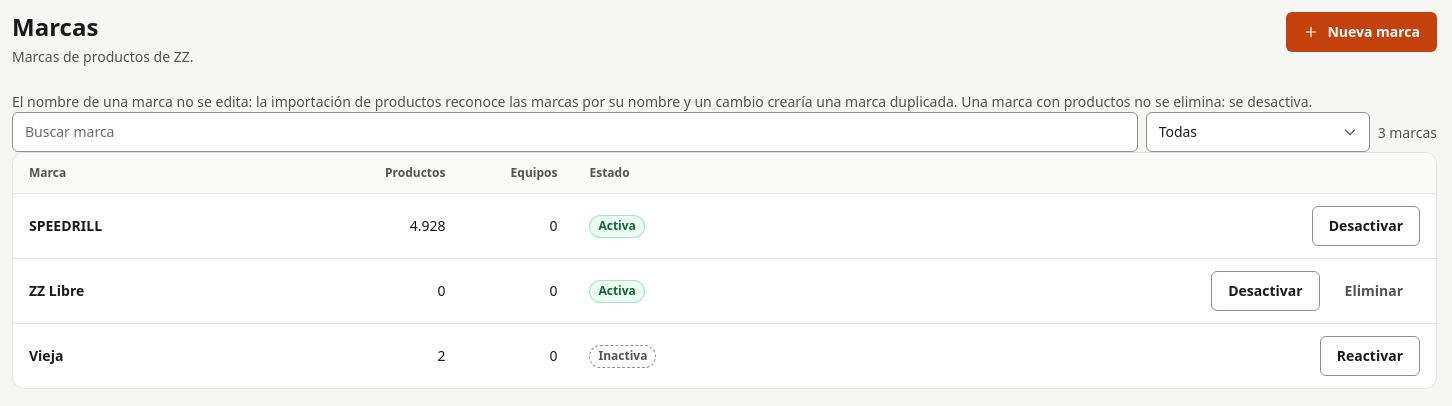
Test: Marcas › filtro por estado y búsqueda
The width and height of the screenshot is (1452, 406).
Select "Inactivas" in the dropdown named "Filtrar por estado" at [1258, 132], box x1=1146 y1=112 x2=1370 y2=152
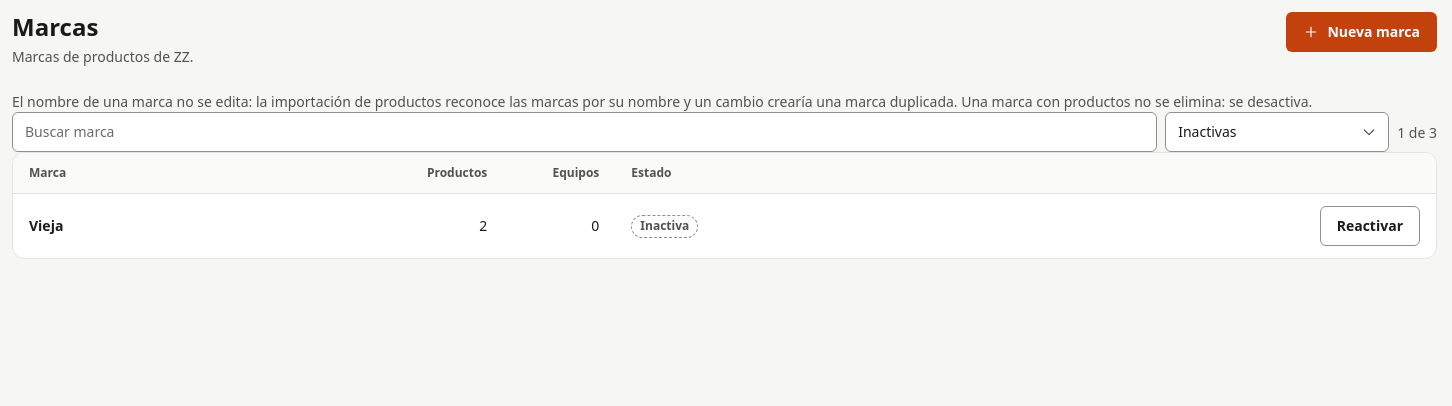
Expected: the text "Vieja" is shown, x1=29 y1=216 x2=63 y2=235
Expected: the text "SPEEDRILL" is gone
Select "Todas" in the dropdown named "Filtrar por estado" at [1277, 132], box x1=1165 y1=112 x2=1389 y2=152
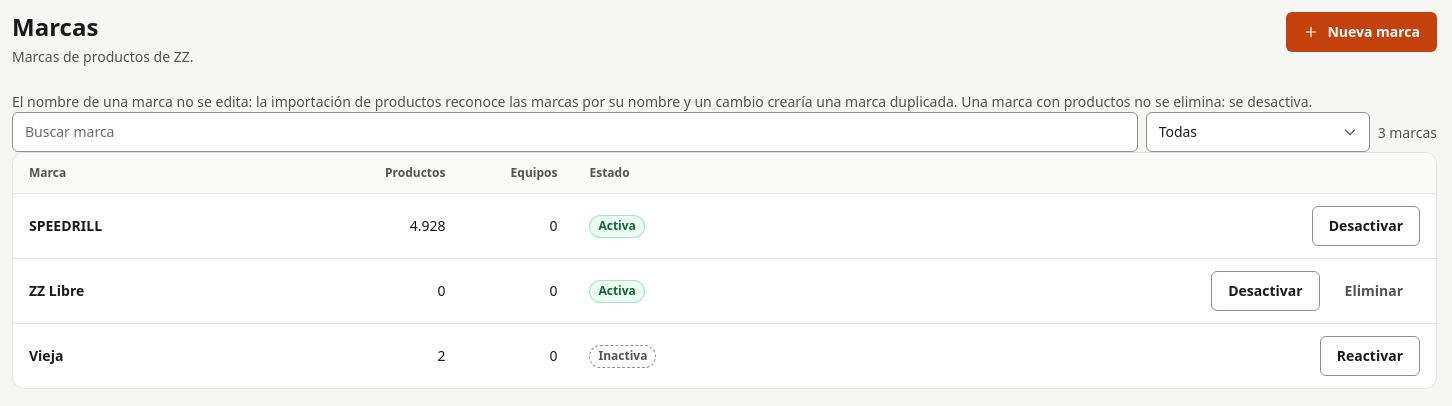
Type "speed" into the search field labelled "Buscar marca".
click(575, 132); type("speed")  # box x1=12 y1=112 x2=1138 y2=152
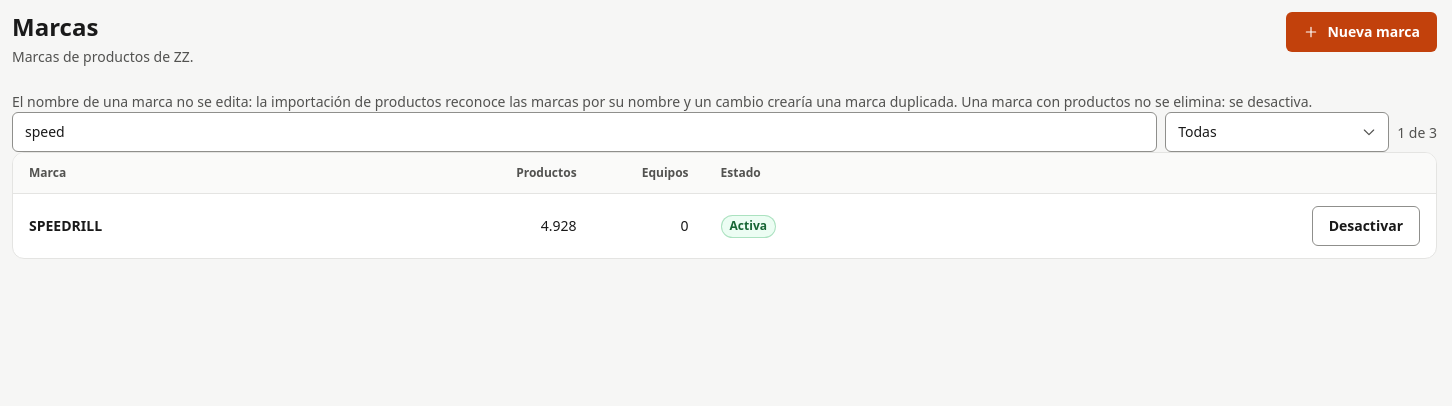
Expected: the text "1 de 3" is shown, x1=1397 y1=122 x2=1437 y2=142
